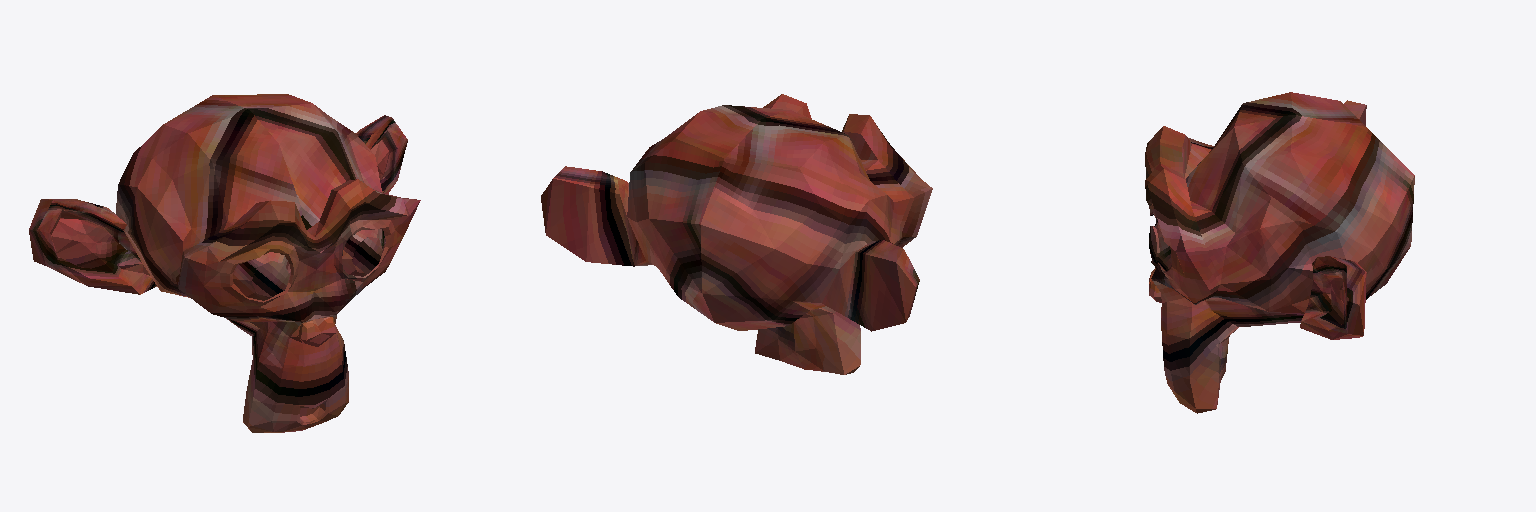
3 views of the same model, side by side, from view 1: azimuth 30°, elevation 25°; view 2: azimuth 150°, elevation 25°; view 3: azimuth 270°, elevation 25° (orthographic).
Visible parts, largest first — view 1: Suzanne; view 2: Suzanne; view 3: Suzanne.
Part boxes in pixels (left/top/right/bottom): Suzanne: left=29, top=94, right=420, bottom=432; Suzanne: left=541, top=94, right=932, bottom=374; Suzanne: left=1145, top=92, right=1414, bottom=413.
Bounding box in the file's own units: 2.73 × 1.97 × 1.7.
1 materials, 1 textured.